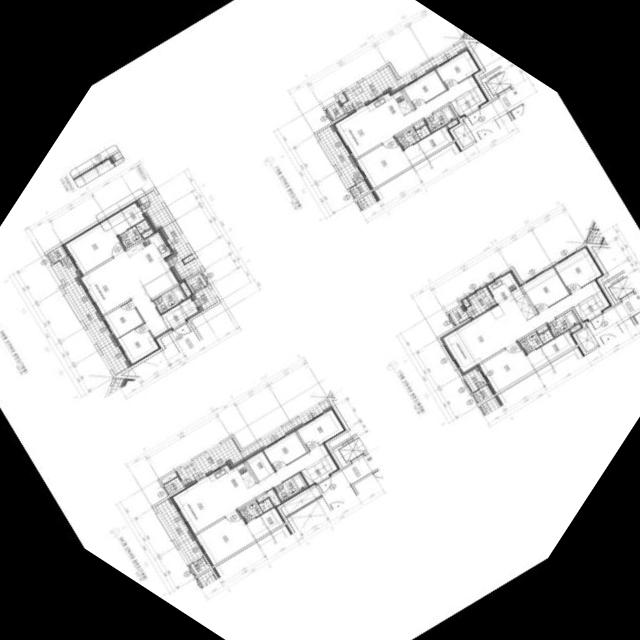background: (0, 0, 640, 640)
space_balconi: (175, 399, 330, 485), (341, 40, 465, 112), (53, 255, 127, 374), (137, 189, 201, 280), (154, 498, 202, 563), (316, 125, 363, 187), (365, 88, 412, 129), (466, 286, 495, 318), (462, 368, 486, 392), (193, 285, 216, 309)
space_bedroom: (315, 453, 376, 510), (193, 510, 254, 566), (63, 217, 123, 273), (353, 137, 410, 189), (476, 341, 533, 393), (553, 247, 601, 293), (295, 406, 345, 450), (521, 266, 568, 312), (434, 47, 479, 88), (261, 429, 306, 470), (116, 323, 158, 364), (401, 68, 445, 107), (103, 300, 142, 338)
space_dressroom: (526, 330, 577, 369), (245, 506, 284, 539), (106, 200, 143, 234), (417, 125, 454, 155), (403, 142, 424, 164)
space_elevator: (479, 66, 512, 99), (602, 271, 635, 303)
space_elevator_hall: (463, 88, 522, 133), (585, 292, 640, 337), (168, 321, 199, 352)
space_front: (572, 294, 603, 322), (450, 90, 480, 117), (300, 459, 330, 486), (159, 303, 186, 329)
space_kitchen: (486, 268, 535, 328), (121, 231, 170, 285), (205, 460, 256, 503)
space_living_room: (439, 279, 600, 374), (168, 442, 329, 535), (331, 74, 478, 159), (79, 252, 168, 338)
space_other: (286, 496, 330, 532), (279, 485, 320, 515), (143, 268, 179, 298), (244, 449, 273, 480), (575, 323, 599, 351), (452, 119, 476, 147), (256, 488, 280, 506), (448, 305, 469, 325), (179, 297, 198, 318), (320, 453, 339, 474), (470, 84, 488, 106), (593, 289, 611, 310), (189, 556, 208, 575), (325, 101, 344, 120), (187, 273, 206, 291), (160, 471, 176, 483), (179, 281, 190, 297), (569, 322, 582, 333), (446, 117, 459, 128), (459, 296, 469, 307), (336, 92, 346, 102), (141, 228, 152, 237), (182, 254, 193, 263), (536, 324, 547, 333), (413, 120, 424, 128)
space_outdoor_room: (472, 384, 492, 402), (349, 180, 369, 198), (163, 476, 182, 494), (47, 245, 66, 262)
space_toilet: (273, 472, 307, 501), (152, 284, 186, 313), (423, 104, 456, 132), (117, 219, 149, 247), (546, 309, 579, 336), (395, 124, 430, 149), (238, 497, 273, 522), (518, 328, 553, 353)
